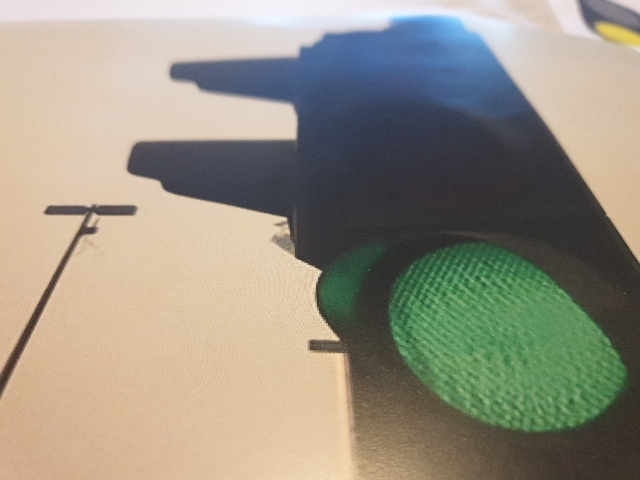green: (307, 41, 597, 437)
